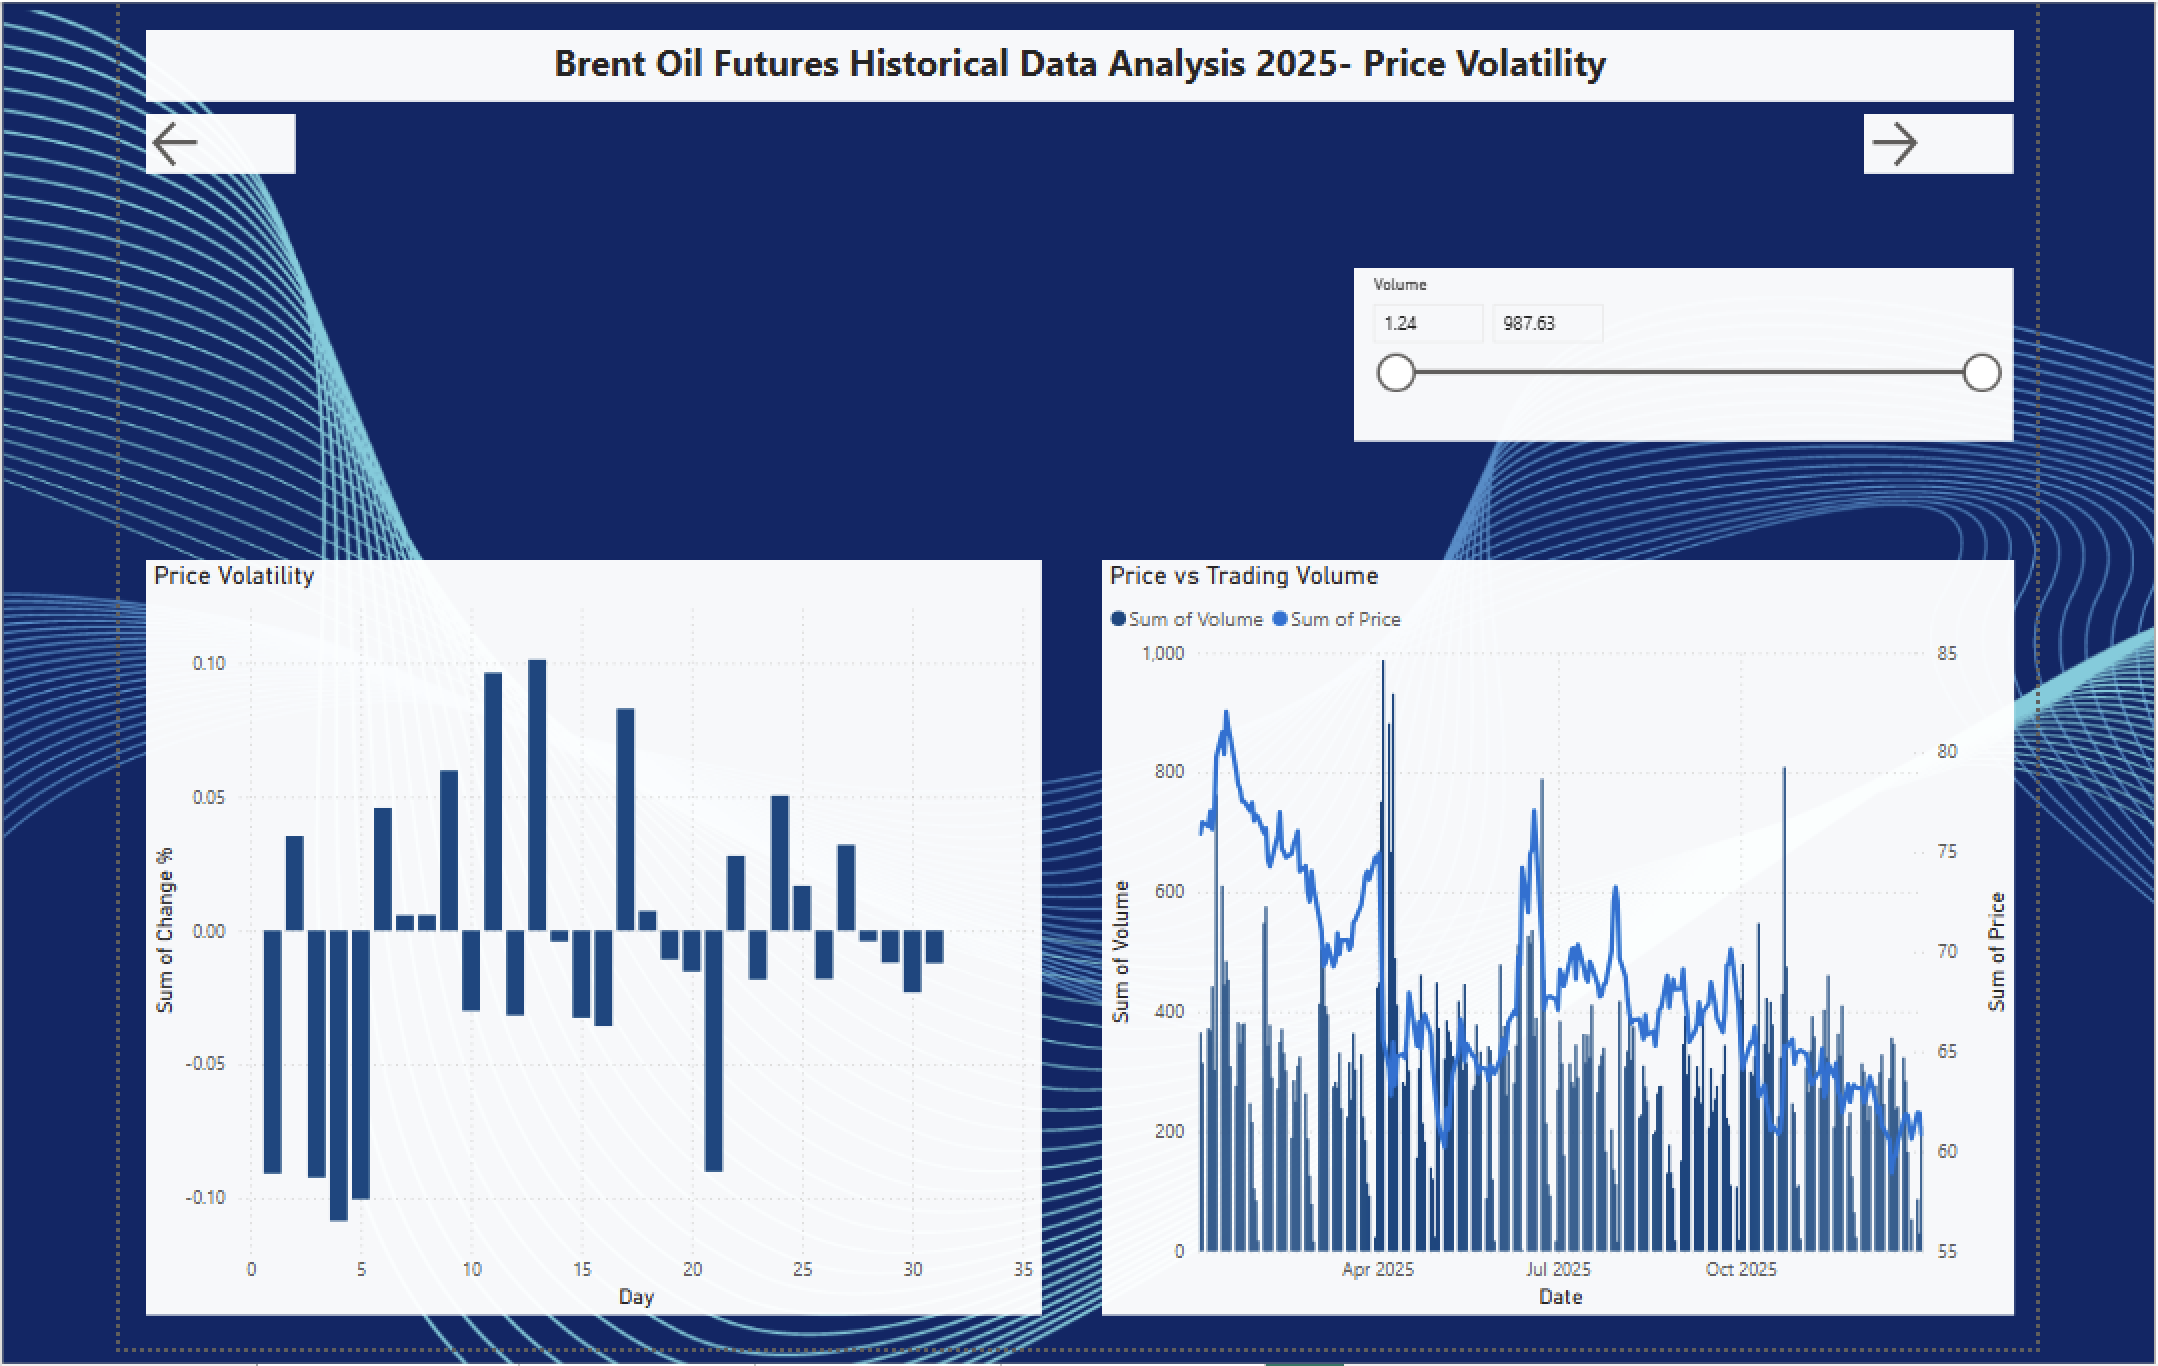

The dashboard page shown, as its layout file describes it:
{"tool":"powerbi","page":{"name":"Price Volatility","canvas":[1280,900],"ordinal":1},"visuals":[{"type":"clusteredColumnChart","title":"Price Volatility","fields":{"Y":["Sum(Brent Oil Futures Historical Data Daily 2025.Change %)"],"Category":["Brent Oil Futures Historical Data Daily 2025.Date.Variation.Date Hierarchy.Year","Brent Oil Futures Historical Data Daily 2025.Date.Variation.Date Hierarchy.Quarter","Brent Oil Futures Historical Data Daily 2025.Date.Variation.Date Hierarchy.Month","Brent Oil Futures Historical Data Daily 2025.Date.Variation.Date Hierarchy.Day"]},"box":[17.4,373.1,599.1,505.5],"z":0},{"type":"lineClusteredColumnComboChart","title":"Price vs Trading Volume","fields":{"Y2":["Sum(Brent Oil Futures Historical Data Daily 2025.Price)"],"Y":["Sum(Brent Oil Futures Historical Data Daily 2025.Vol.)"],"Category":["Brent Oil Futures Historical Data Daily 2025.Date"]},"box":[656.6,373.1,609.8,505.5],"z":1000},{"type":"slicer","fields":{"Values":["Brent Oil Futures Historical Data Daily 2025.Volume"]},"box":[825.1,177.9,441.3,116.3],"z":2000},{"type":"textbox","box":[17.4,18.7,1249,48.1],"z":2001},{"type":"actionButton","box":[17.4,74.9,100.3,40.1],"z":2002},{"type":"actionButton","box":[1166.1,74.9,100.3,40.1],"z":2003}]}

Visuals, with their boxes in screenshot pixels (x1, y1, x2, y2):
"Price Volatility" clusteredColumnChart: [left=138, top=553, right=1035, bottom=1309]
"Price vs Trading Volume" lineClusteredColumnComboChart: [left=1095, top=553, right=2007, bottom=1309]
slicer - Brent Oil Futures Historical Data Daily 2025.Volume: [left=1347, top=261, right=2007, bottom=435]
textbox: [left=138, top=22, right=2007, bottom=94]
actionButton: [left=138, top=106, right=289, bottom=166]
actionButton: [left=1857, top=106, right=2007, bottom=166]
